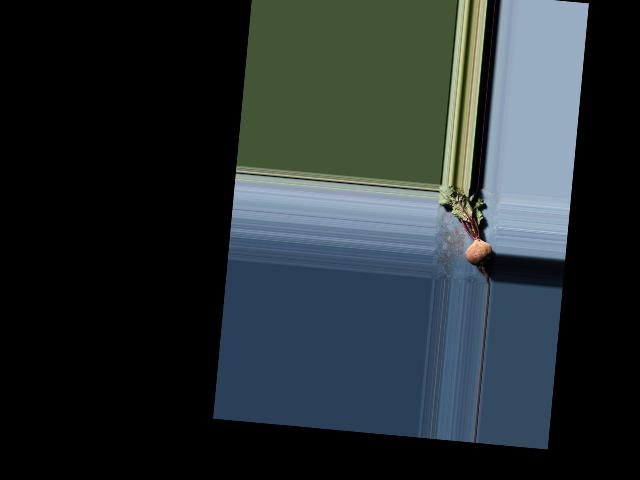beet: (430, 183, 498, 284)
